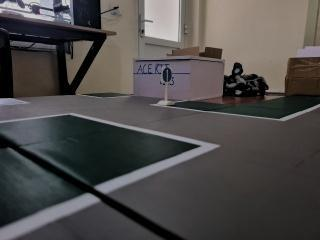straight: (160, 64, 176, 84)
